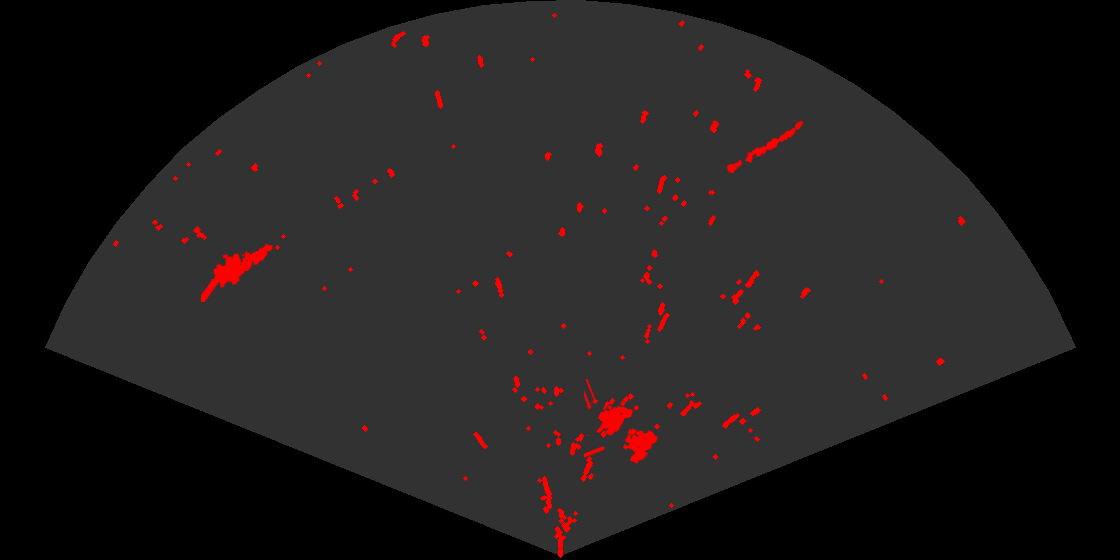cage: (584, 379, 659, 465)
chain: (725, 119, 805, 175)
frogman: (201, 242, 274, 302)
